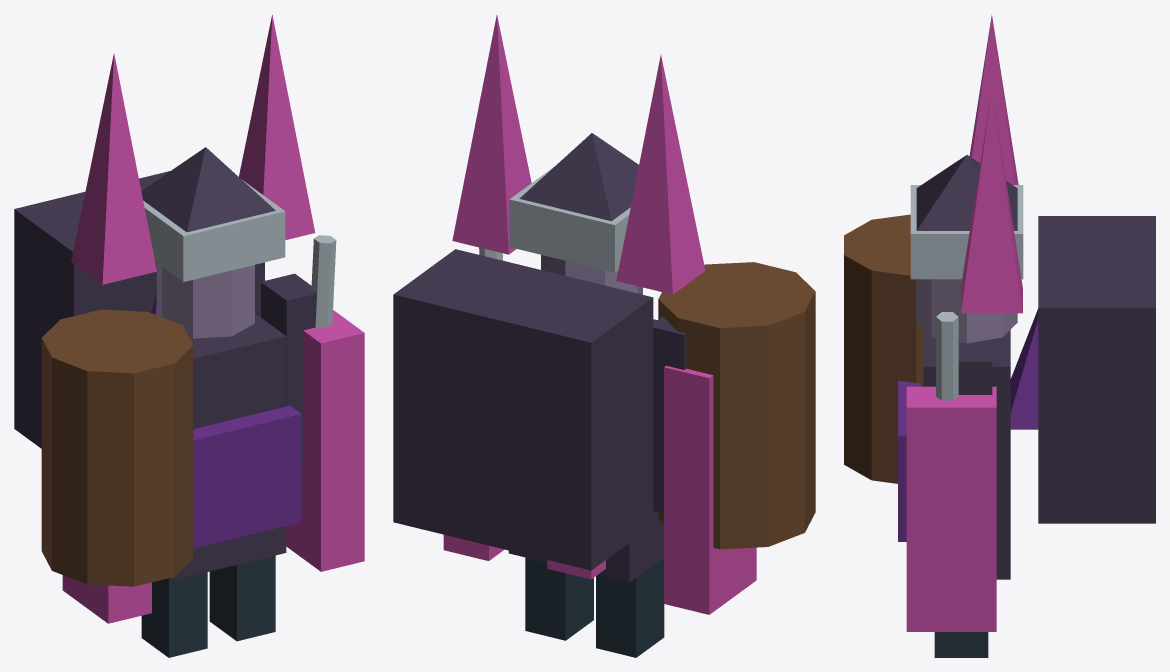
File: mechanized-infantry.obj
3 views of the same model, side by side, from view 1: azimuth 30°, elevation 25°; view 2: azimuth 150°, elevation 25°; view 3: azimuth 270°, elevation 25° (orthographic). The views are drawn at different scales.
Parts seen in each view (by area): view 1: infantry; view 2: infantry; view 3: infantry.
Part boxes in pixels (x1,y1,x2,y2): infantry: [14, 15, 364, 657]; infantry: [393, 15, 815, 657]; infantry: [844, 14, 1155, 657].
Size of the model in its own units: 1.13 by 2.07 by 1.01.
